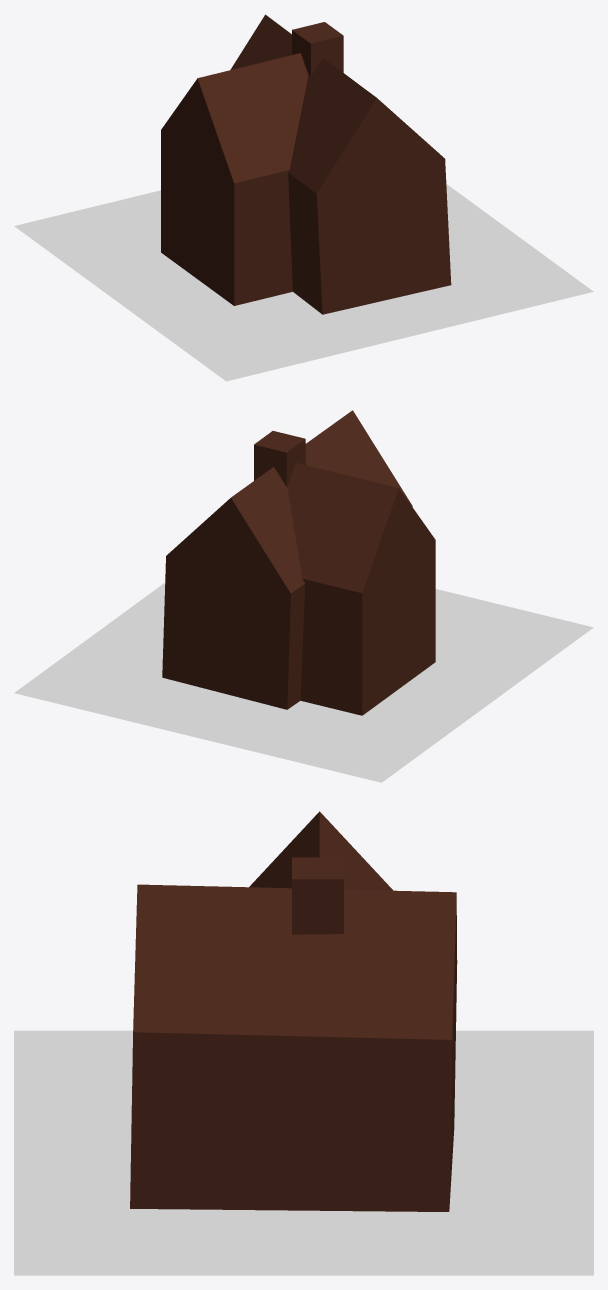
File: Artisan_House_1_PlaceHolder.fbx
The picture shows the model from 3 angles, top to bottom: view 1: azimuth 30°, elevation 25°; view 2: azimuth 150°, elevation 25°; view 3: azimuth 270°, elevation 25°; orthographic projection. The views are drawn at different scales.
Visible parts, largest first — view 1: Plane.003, Cube.004, Cube.002, Cube.003; view 2: Plane.003, Cube.004, Cube.002, Cube.003; view 3: Cube.004, Plane.003, Cube.002, Cube.003.
Part boxes in pixels (x1,y1,x2,y2): Plane.003: (14,184,593,381); Cube.004: (230,14,451,314); Cube.002: (161,53,308,305); Cube.003: (292,22,343,76); Plane.003: (14,582,593,782); Cube.004: (162,410,412,709); Cube.002: (287,463,435,715); Cube.003: (254,431,305,486); Cube.004: (130,884,457,1211); Plane.003: (14,1030,593,1275); Cube.002: (249,811,392,890); Cube.003: (292,857,343,934).
Bounding box in the file's own units: 82.96 × 50.04 × 82.96.
